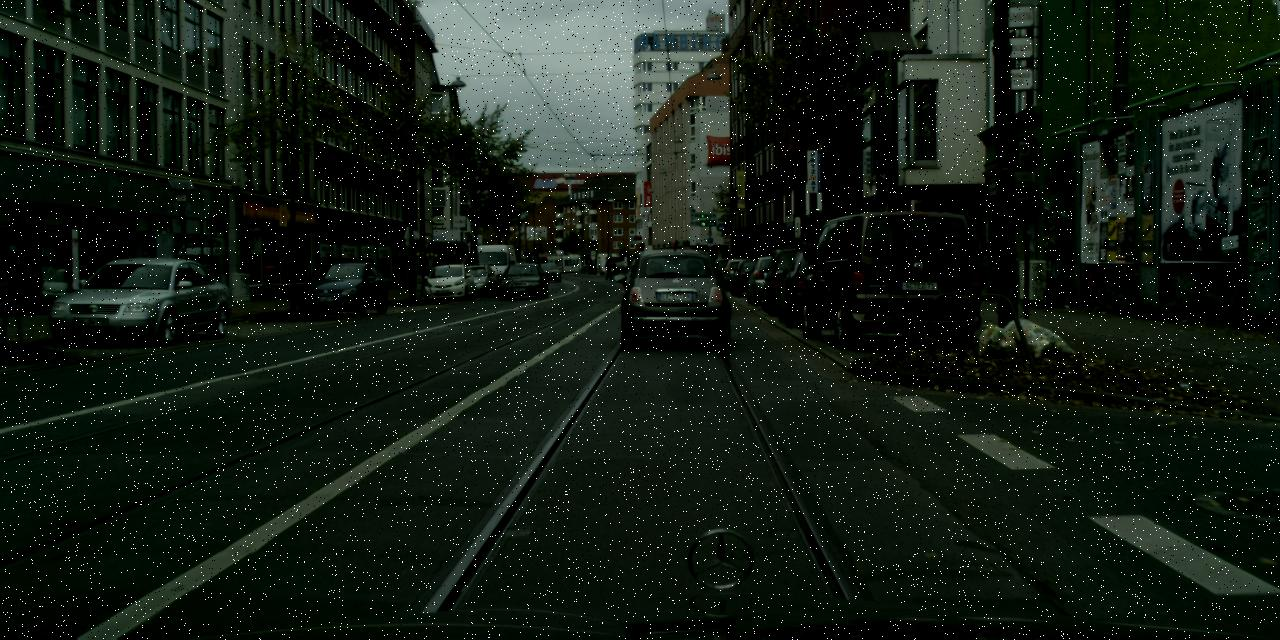ped: (604, 258, 612, 279)
